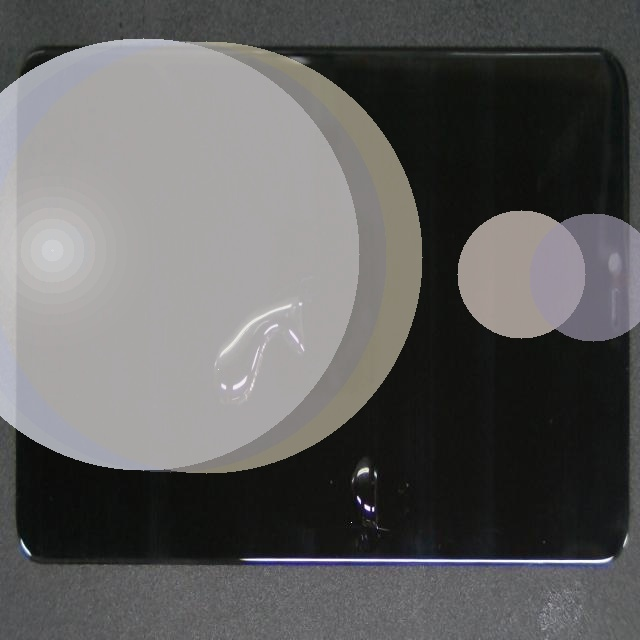oil: (152, 211, 528, 640), (104, 148, 318, 551)
